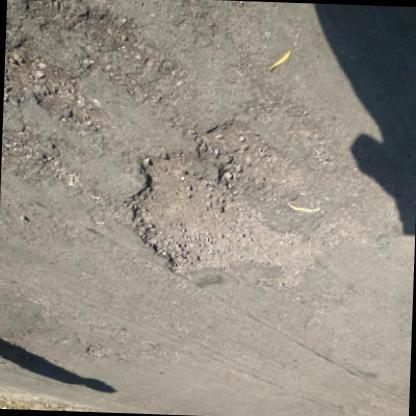pothole: (122, 147, 310, 281)
